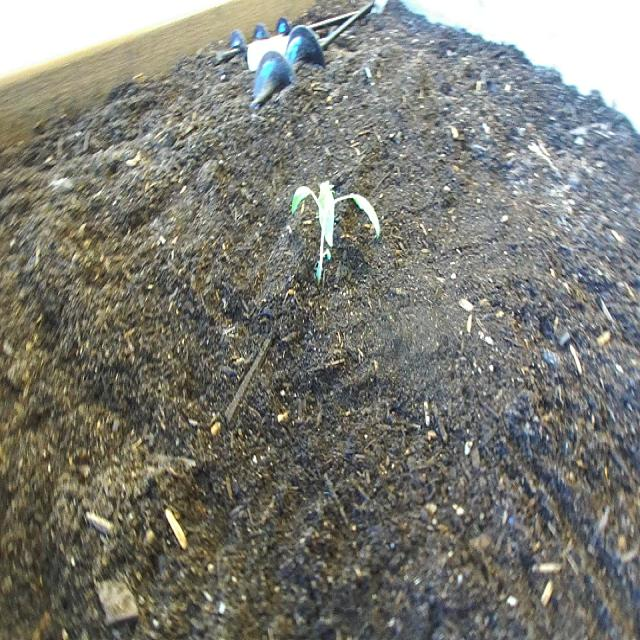Healthy: (286, 165, 386, 296)
